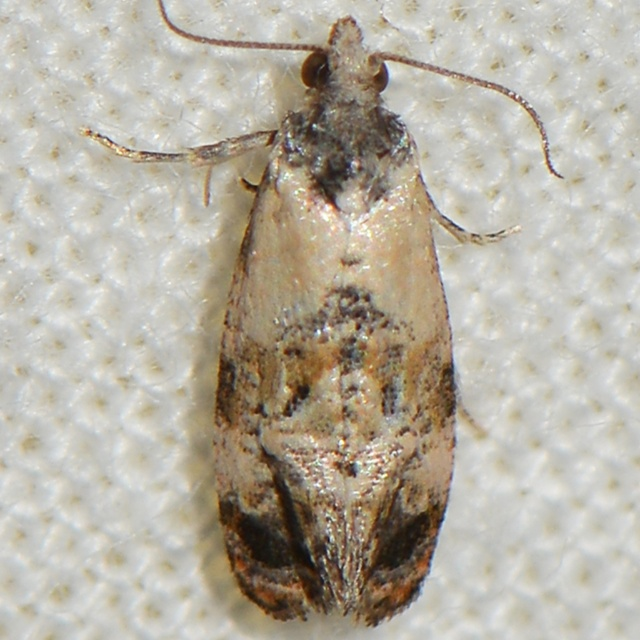Moths and butterflies: (74, 0, 563, 630)
